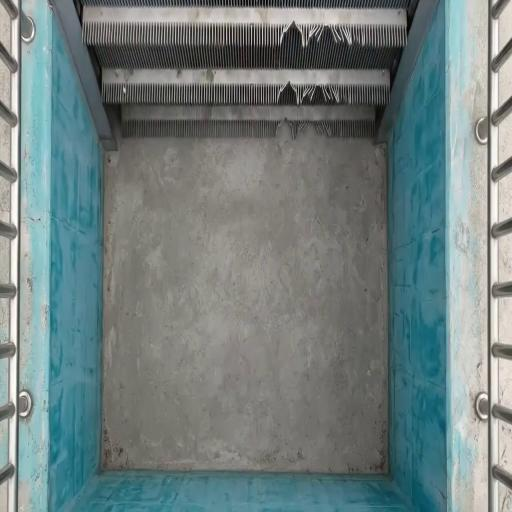rake_broken: (278, 18, 352, 52), (278, 80, 345, 112), (274, 120, 336, 145)
